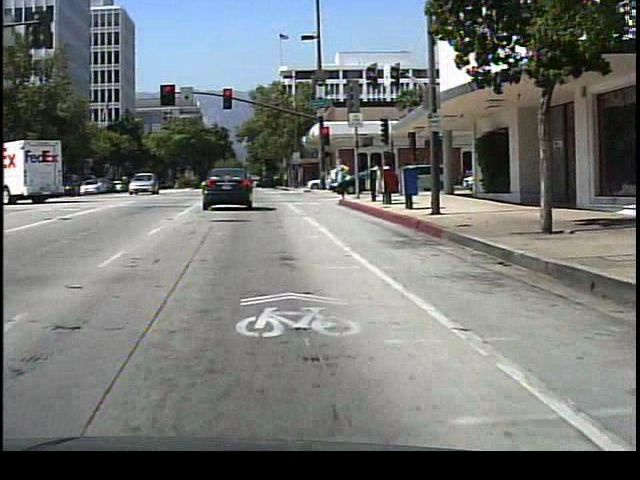person: (330, 152, 353, 205), (364, 158, 381, 196)
